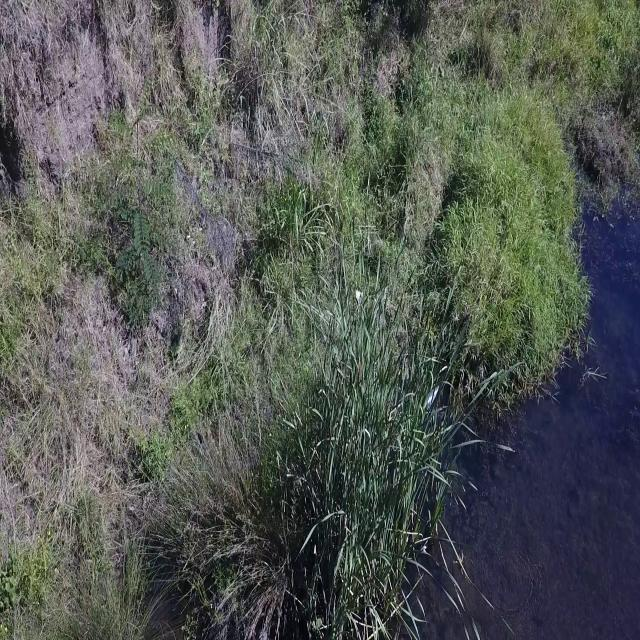Mysore-Thorn-Weed: (114, 114, 162, 308)
